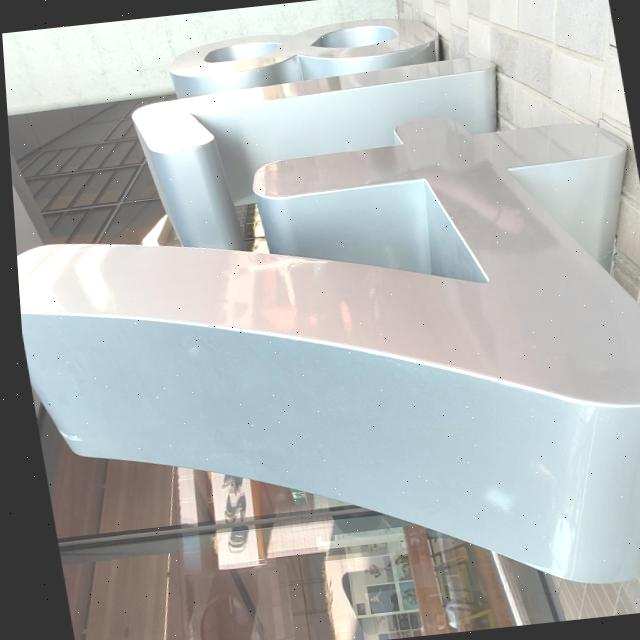character: (6, 83, 640, 489), (116, 45, 518, 168), (155, 0, 446, 89)
